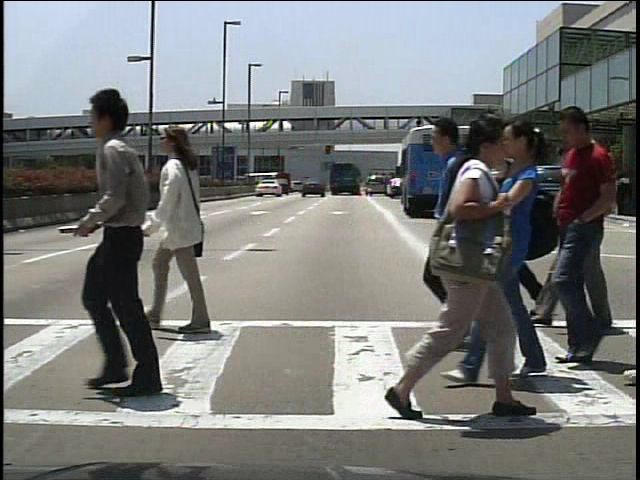person: (390, 112, 522, 426), (64, 79, 191, 399), (408, 117, 516, 348), (547, 106, 620, 374), (155, 119, 236, 337), (463, 130, 536, 322), (560, 142, 616, 341), (582, 168, 602, 218), (489, 163, 507, 215)
